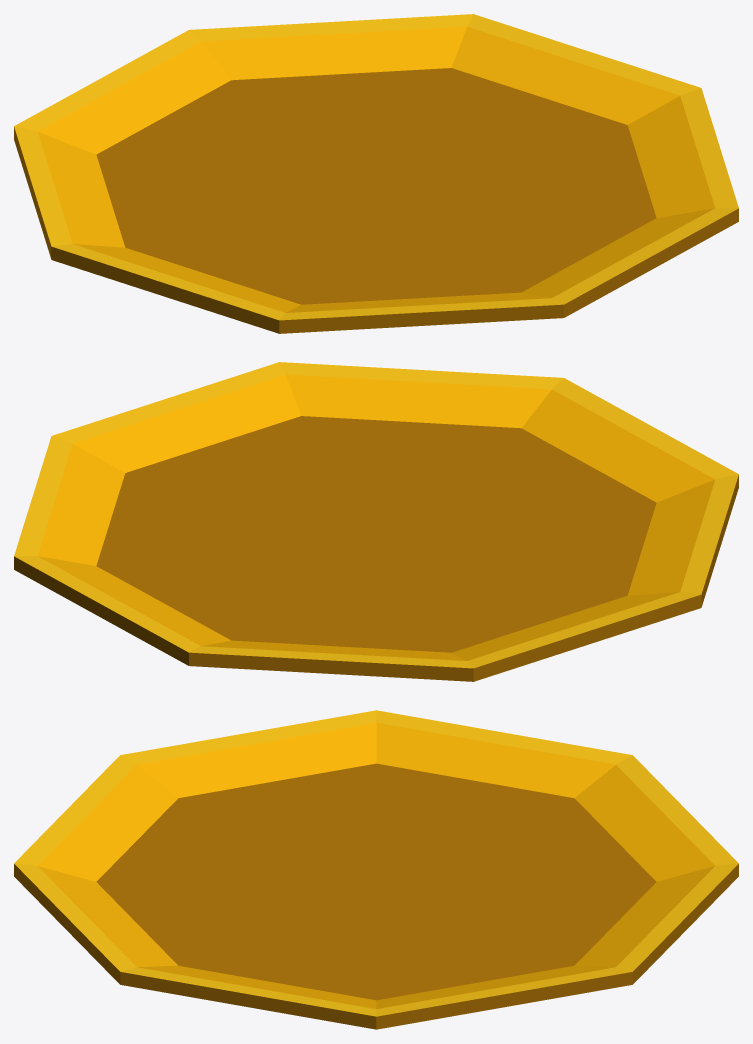
The model's file is Plate_01.glb.
3 renders of one model, top to bottom at view 1: azimuth 30°, elevation 25°; view 2: azimuth 150°, elevation 25°; view 3: azimuth 270°, elevation 25°, orthographic. The views are drawn at different scales.
Visible parts, largest first — view 1: Plate_01; view 2: Plate_01; view 3: Plate_01.
Boxes of the visible parts, x1,y1,x2,y2 form: Plate_01: [14, 14, 738, 333]; Plate_01: [14, 362, 738, 681]; Plate_01: [14, 710, 738, 1029].
Size of what is drawn, in the model's own units: 0.3036 by 0.0117 by 0.3036.
1 material, 1 textured.
